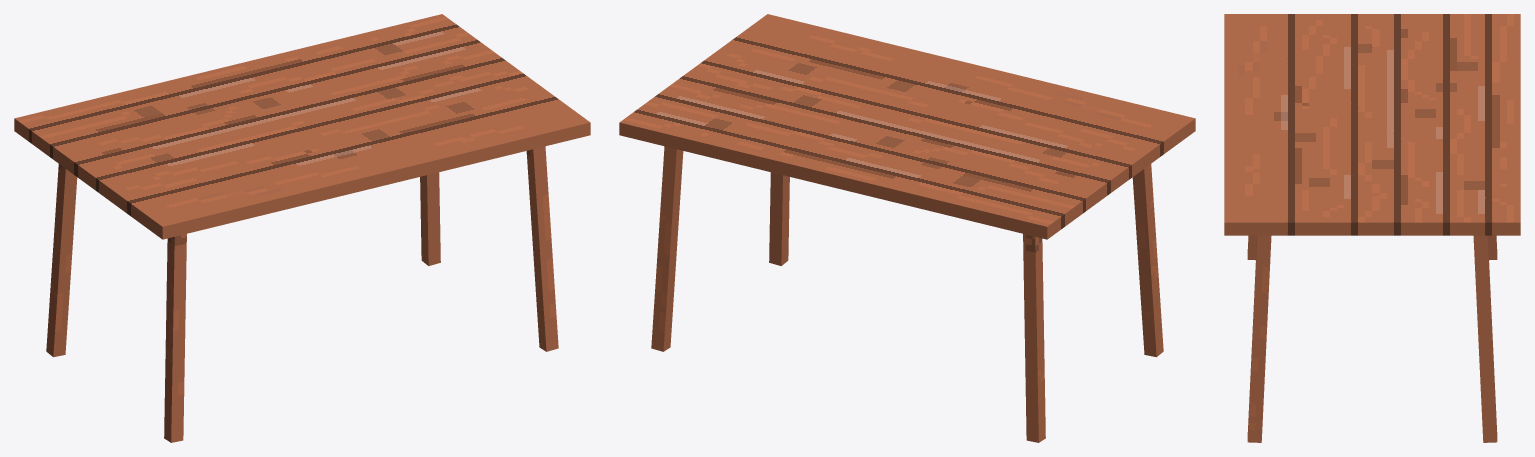
3 views of the same model, side by side, from view 1: azimuth 30°, elevation 25°; view 2: azimuth 150°, elevation 25°; view 3: azimuth 270°, elevation 25° (orthographic).
Parts seen in each view (by area): view 1: Desk; view 2: Desk; view 3: Desk.
Boxes of the visible parts, <box> form: Desk: <box>14,14,590,442</box>; Desk: <box>619,14,1195,442</box>; Desk: <box>1224,14,1520,442</box>.
Bounding box in the file's own units: 2.19 × 1.13 × 1.31.
1 material, 1 textured.
